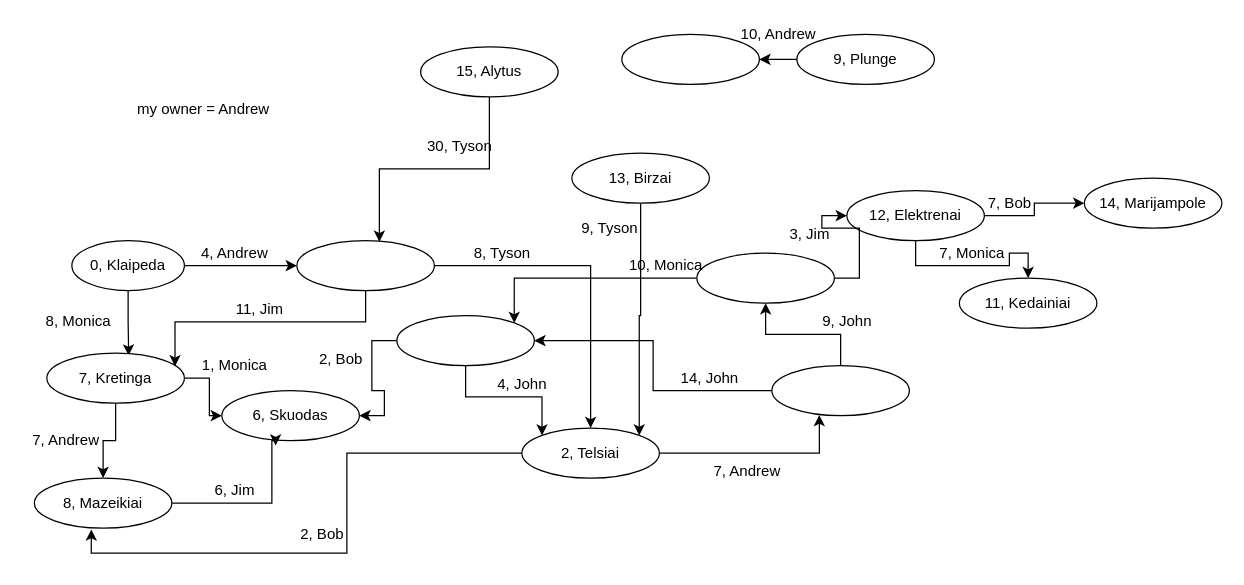
Image size: 1244x585. Some labels were removed from this diagram. The shapes that lost their labels are listed below. From the top down, each one's centre as x and y in pixels, then its label:
At (x=690, y=58): "10, Ginduliai".
At (x=365, y=265): "1, Palanga".
At (x=765, y=277): "4, Vilnius".
At (x=465, y=340): "5, Sialuliai".
At (x=840, y=390): "3, Kaunas".
